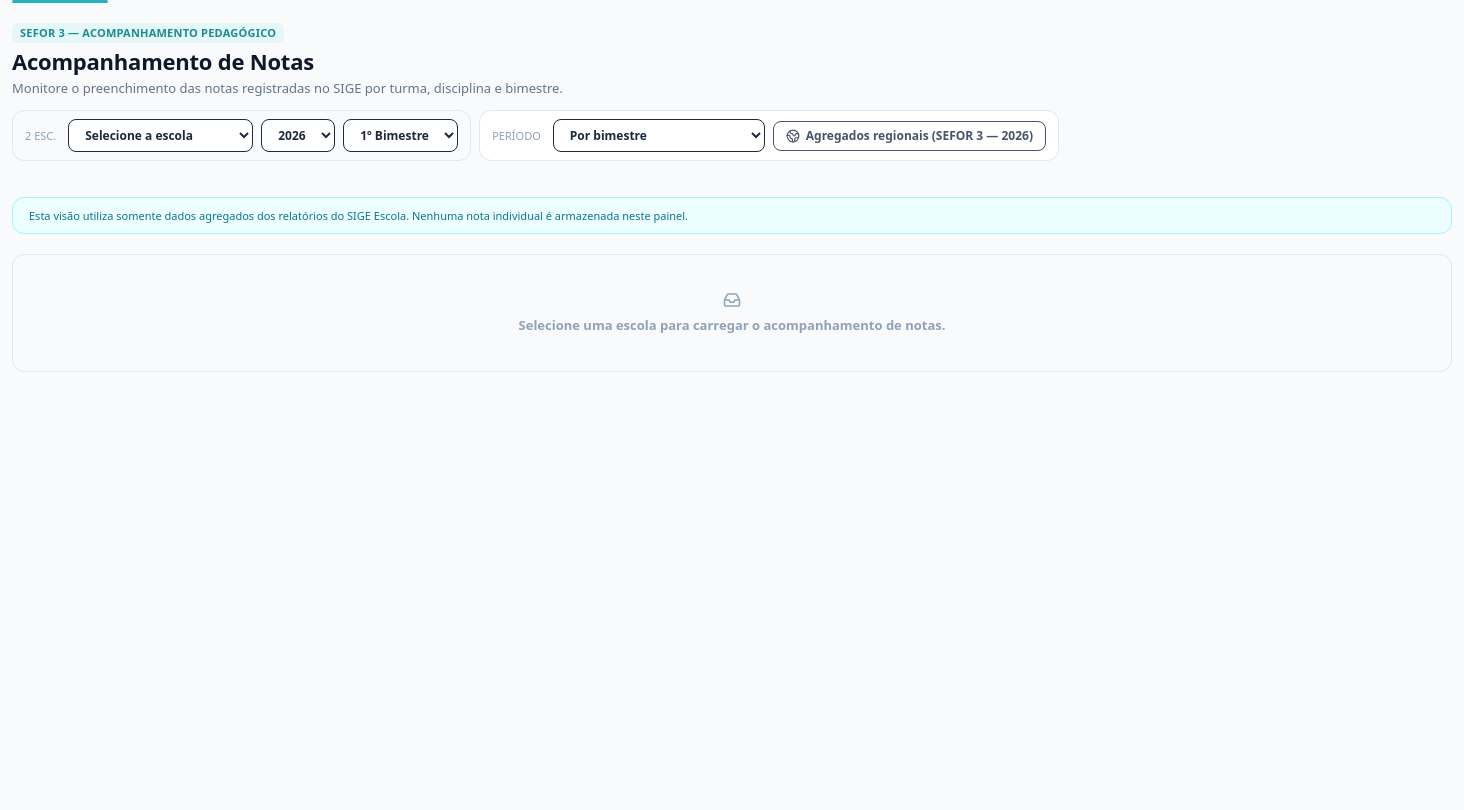
it: NotasView › escola A não carrega turma da escola B — consulta escopada por schoolId
This screenshot has width=1464, height=810.
Select "EEM Diva Cabral" in the dropdown named "Escola" at (161, 136), box [68,119,253,152]
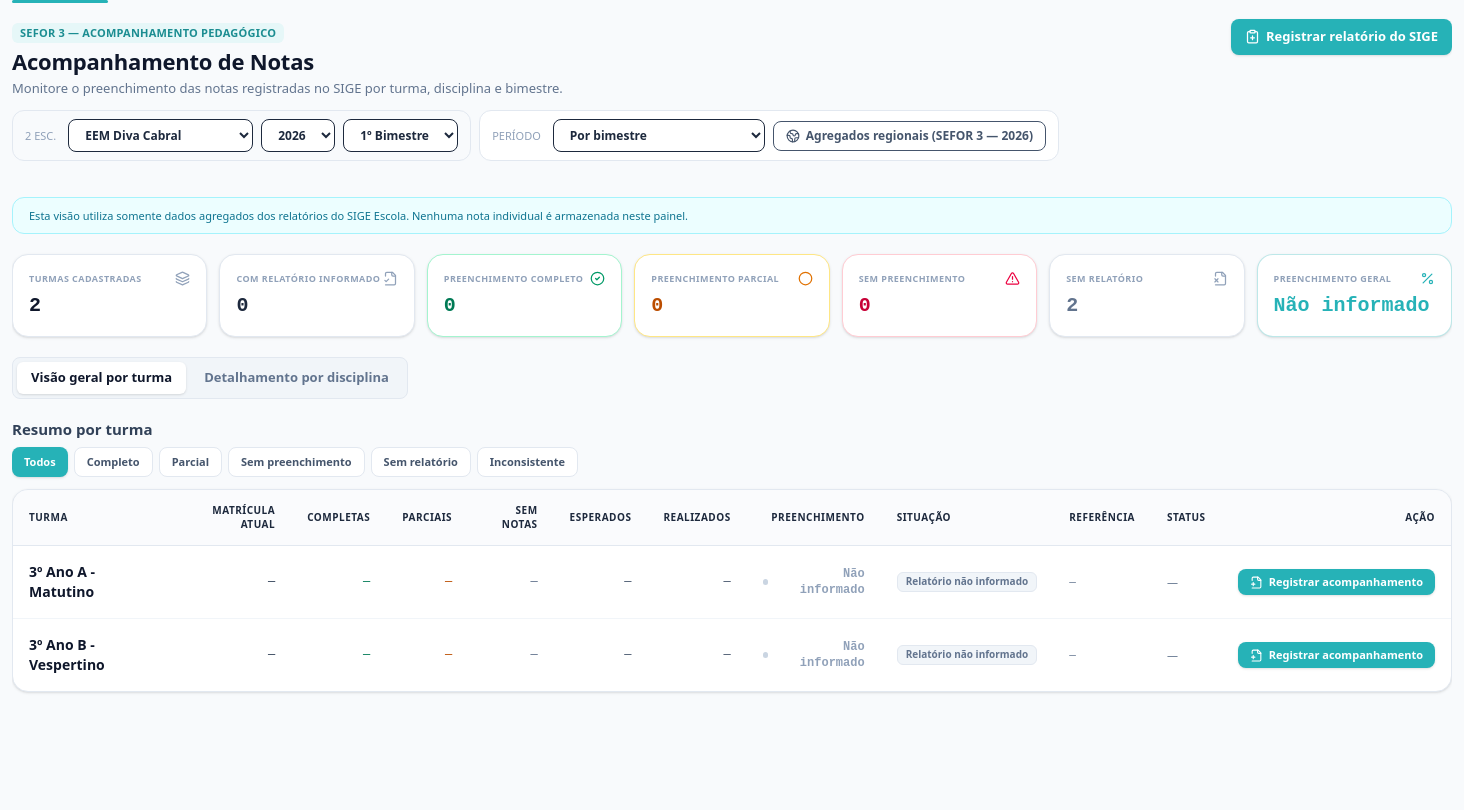
expect the text "3º Ano A - Matutino" is shown: met, box [13,546,170,619]
